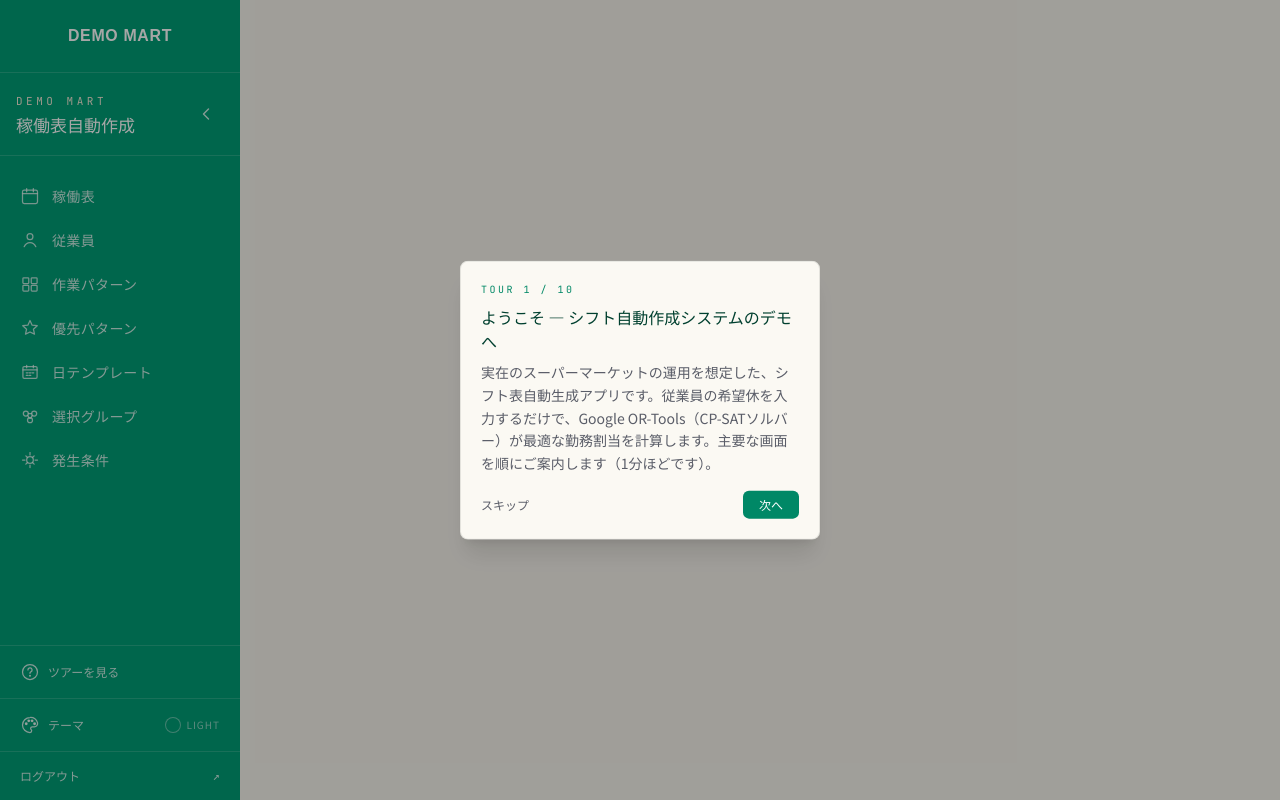
Scenario: Layout — sidebar pattern › renders pattern swatches inside the theme popover
Click the button with aria-label "テーマ設定".
click(120, 725)  # box [12,711,228,739]
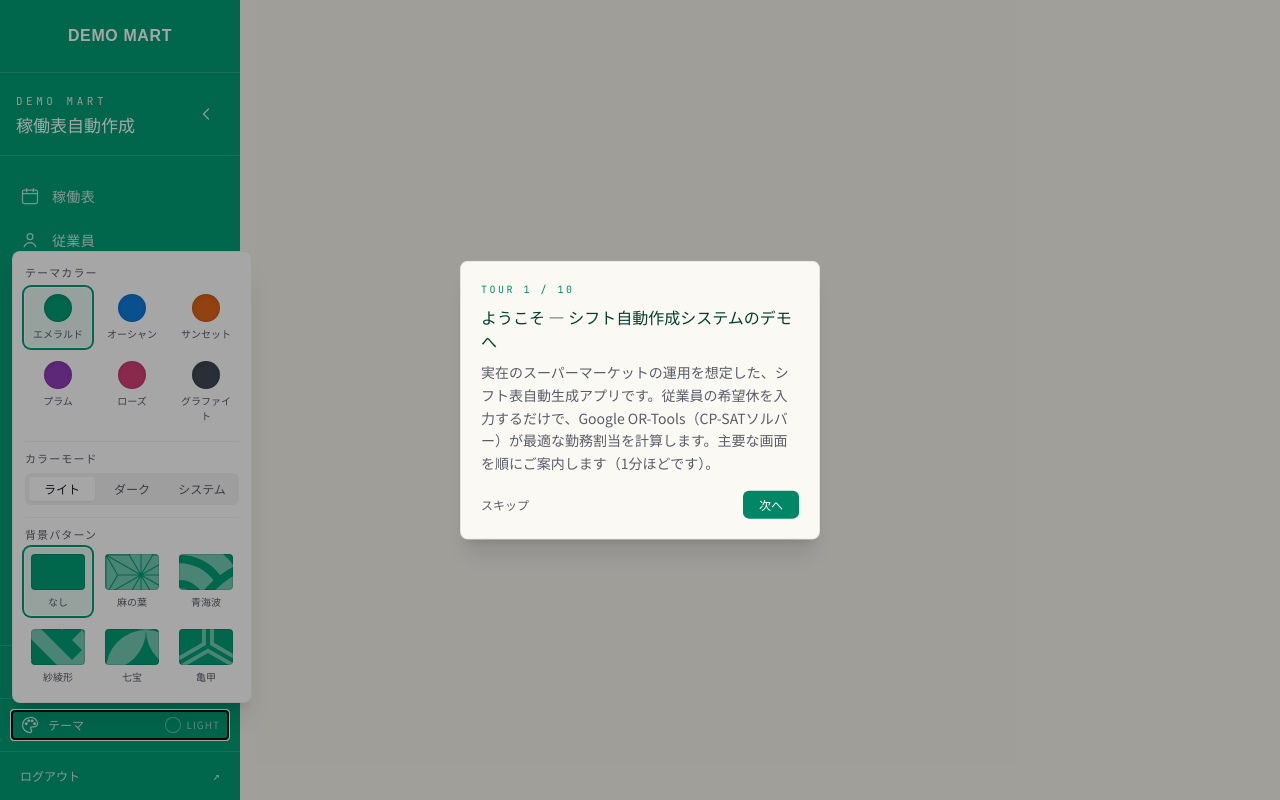
Check: the button "亀甲" is shown, box [173,623,239,690]
Check: the button "麻の葉" is shown, box [99,548,165,615]
